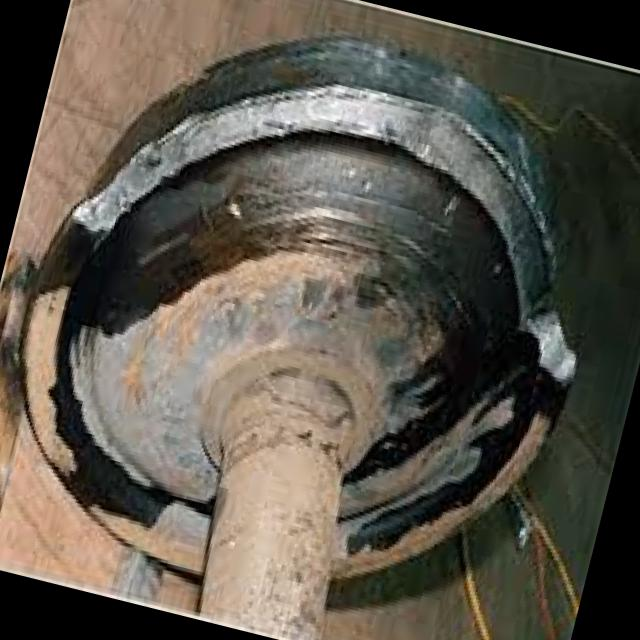Out_Of_Roundness: (63, 50, 249, 278), (462, 289, 600, 415), (1, 289, 96, 445)
